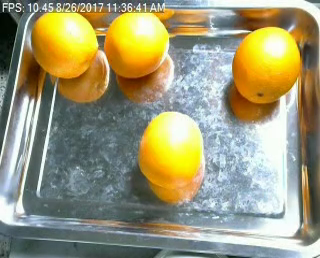Orange: (230, 25, 301, 104), (138, 110, 203, 188), (31, 12, 99, 80), (104, 11, 169, 78)
